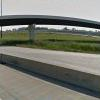Bridge: (2, 6, 96, 48)
